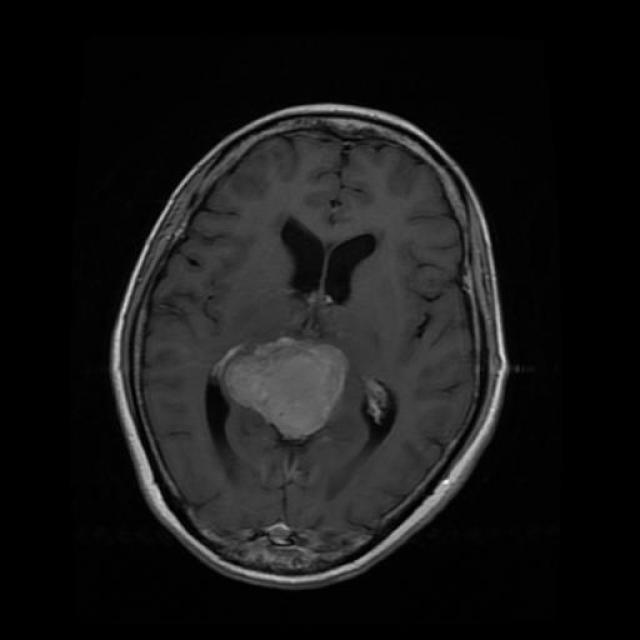meningioma: (222, 338, 349, 441)
